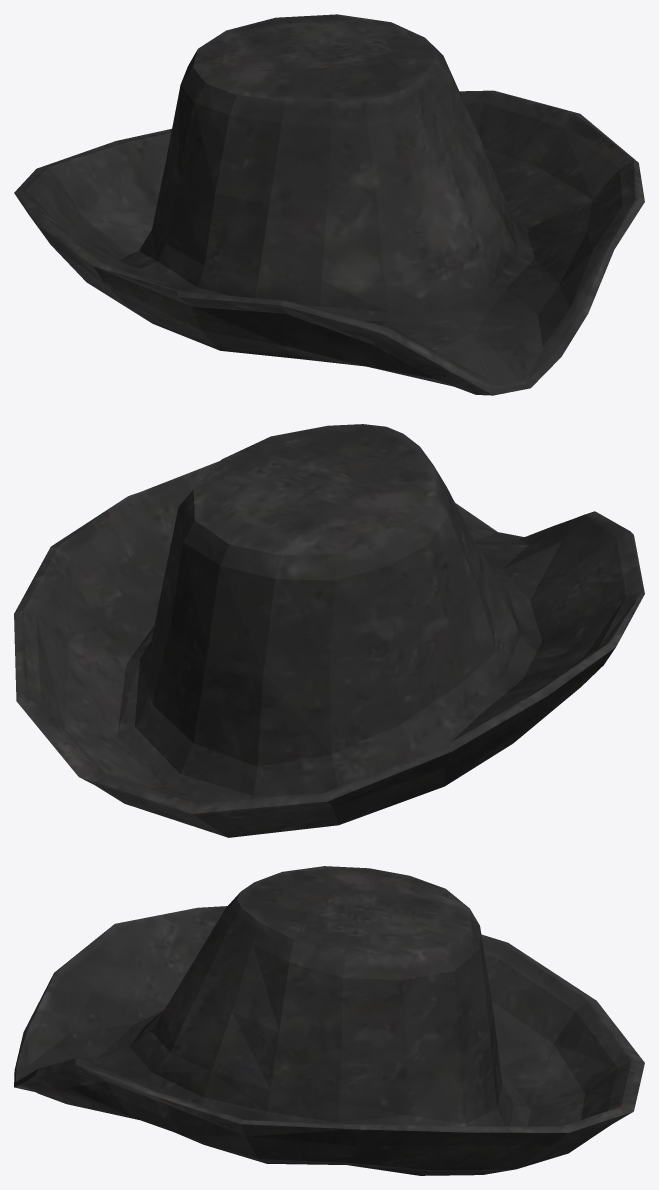
File: KOZA_KAPELUSZ_04.glb
3 views of the same model, one above another, from view 1: azimuth 30°, elevation 25°; view 2: azimuth 150°, elevation 25°; view 3: azimuth 270°, elevation 25° (orthographic). The views are drawn at different scales.
Parts seen in each view (by area): view 1: KOZA_KAPELUSZ_04; view 2: KOZA_KAPELUSZ_04; view 3: KOZA_KAPELUSZ_04.
Boxes of the visible parts, x1,y1,x2,y2 form: KOZA_KAPELUSZ_04: [14, 14, 644, 395]; KOZA_KAPELUSZ_04: [14, 424, 644, 837]; KOZA_KAPELUSZ_04: [14, 866, 644, 1175].
Bounding box in the file's own units: 0.3725 × 0.1831 × 0.4404.
Materials: 1 (1 with a texture image).
